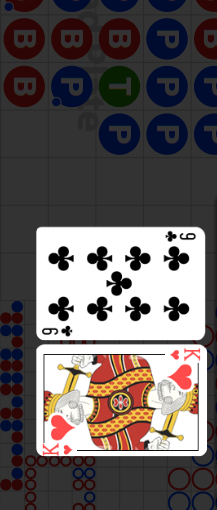9C: (162, 230, 197, 244)
KH: (41, 443, 74, 456)
